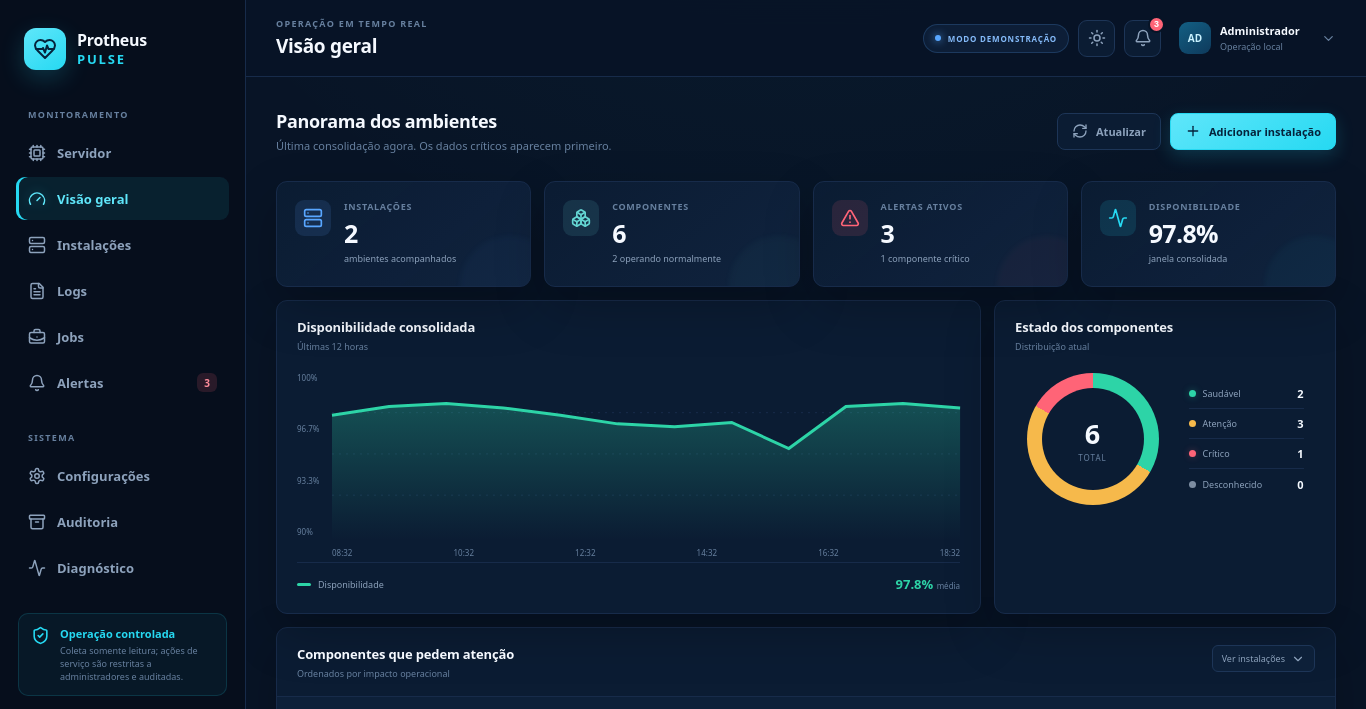
Test: App › mostra o diagnóstico como crítico quando o serviço não responde
Expected: the heading "Panorama dos ambientes" is shown, [276,109,497,133]
Click the button "Diagnóstico" at (122, 568), box [16,546,229,589]
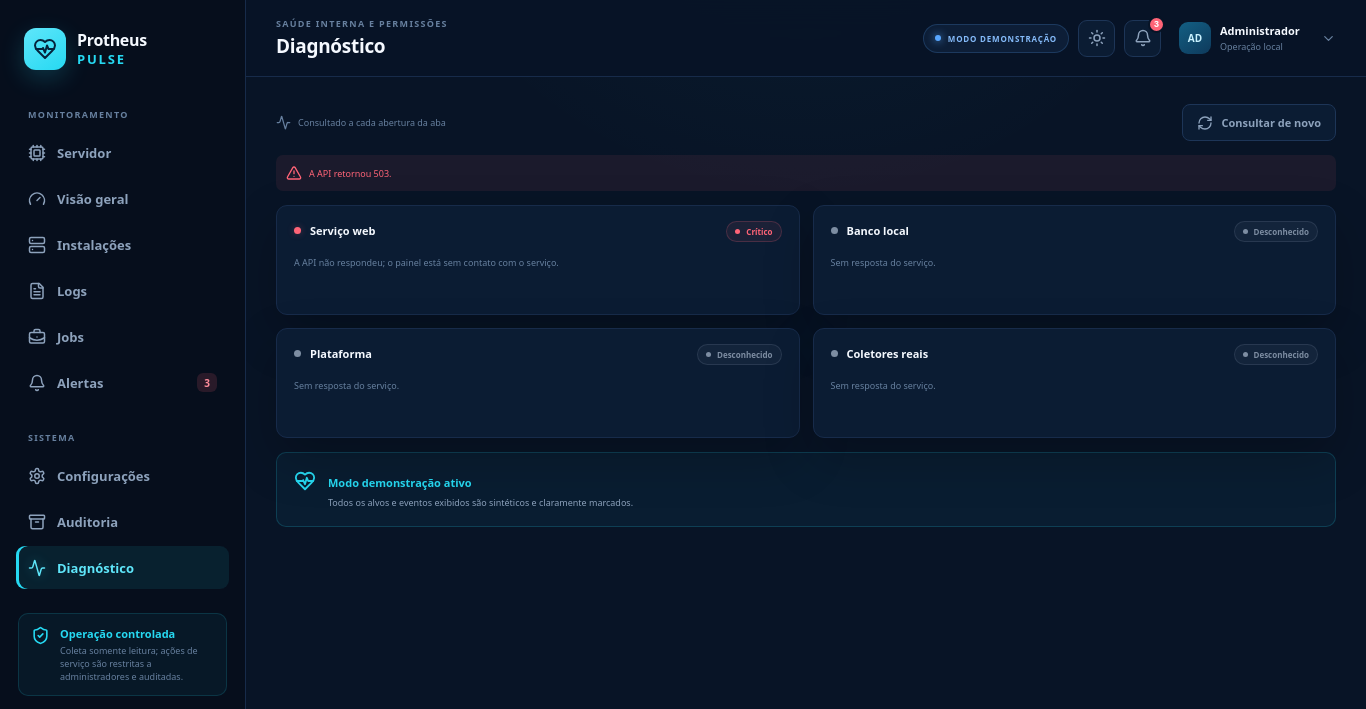
Expected: the text "Crítico" is shown, [726,221,782,242]
Expected: the text "A API retornou 503." is shown, [276,155,1336,191]
Expected: the text "A API não respondeu; o painel está sem contato com o serviço." is shown, [294,256,559,269]
